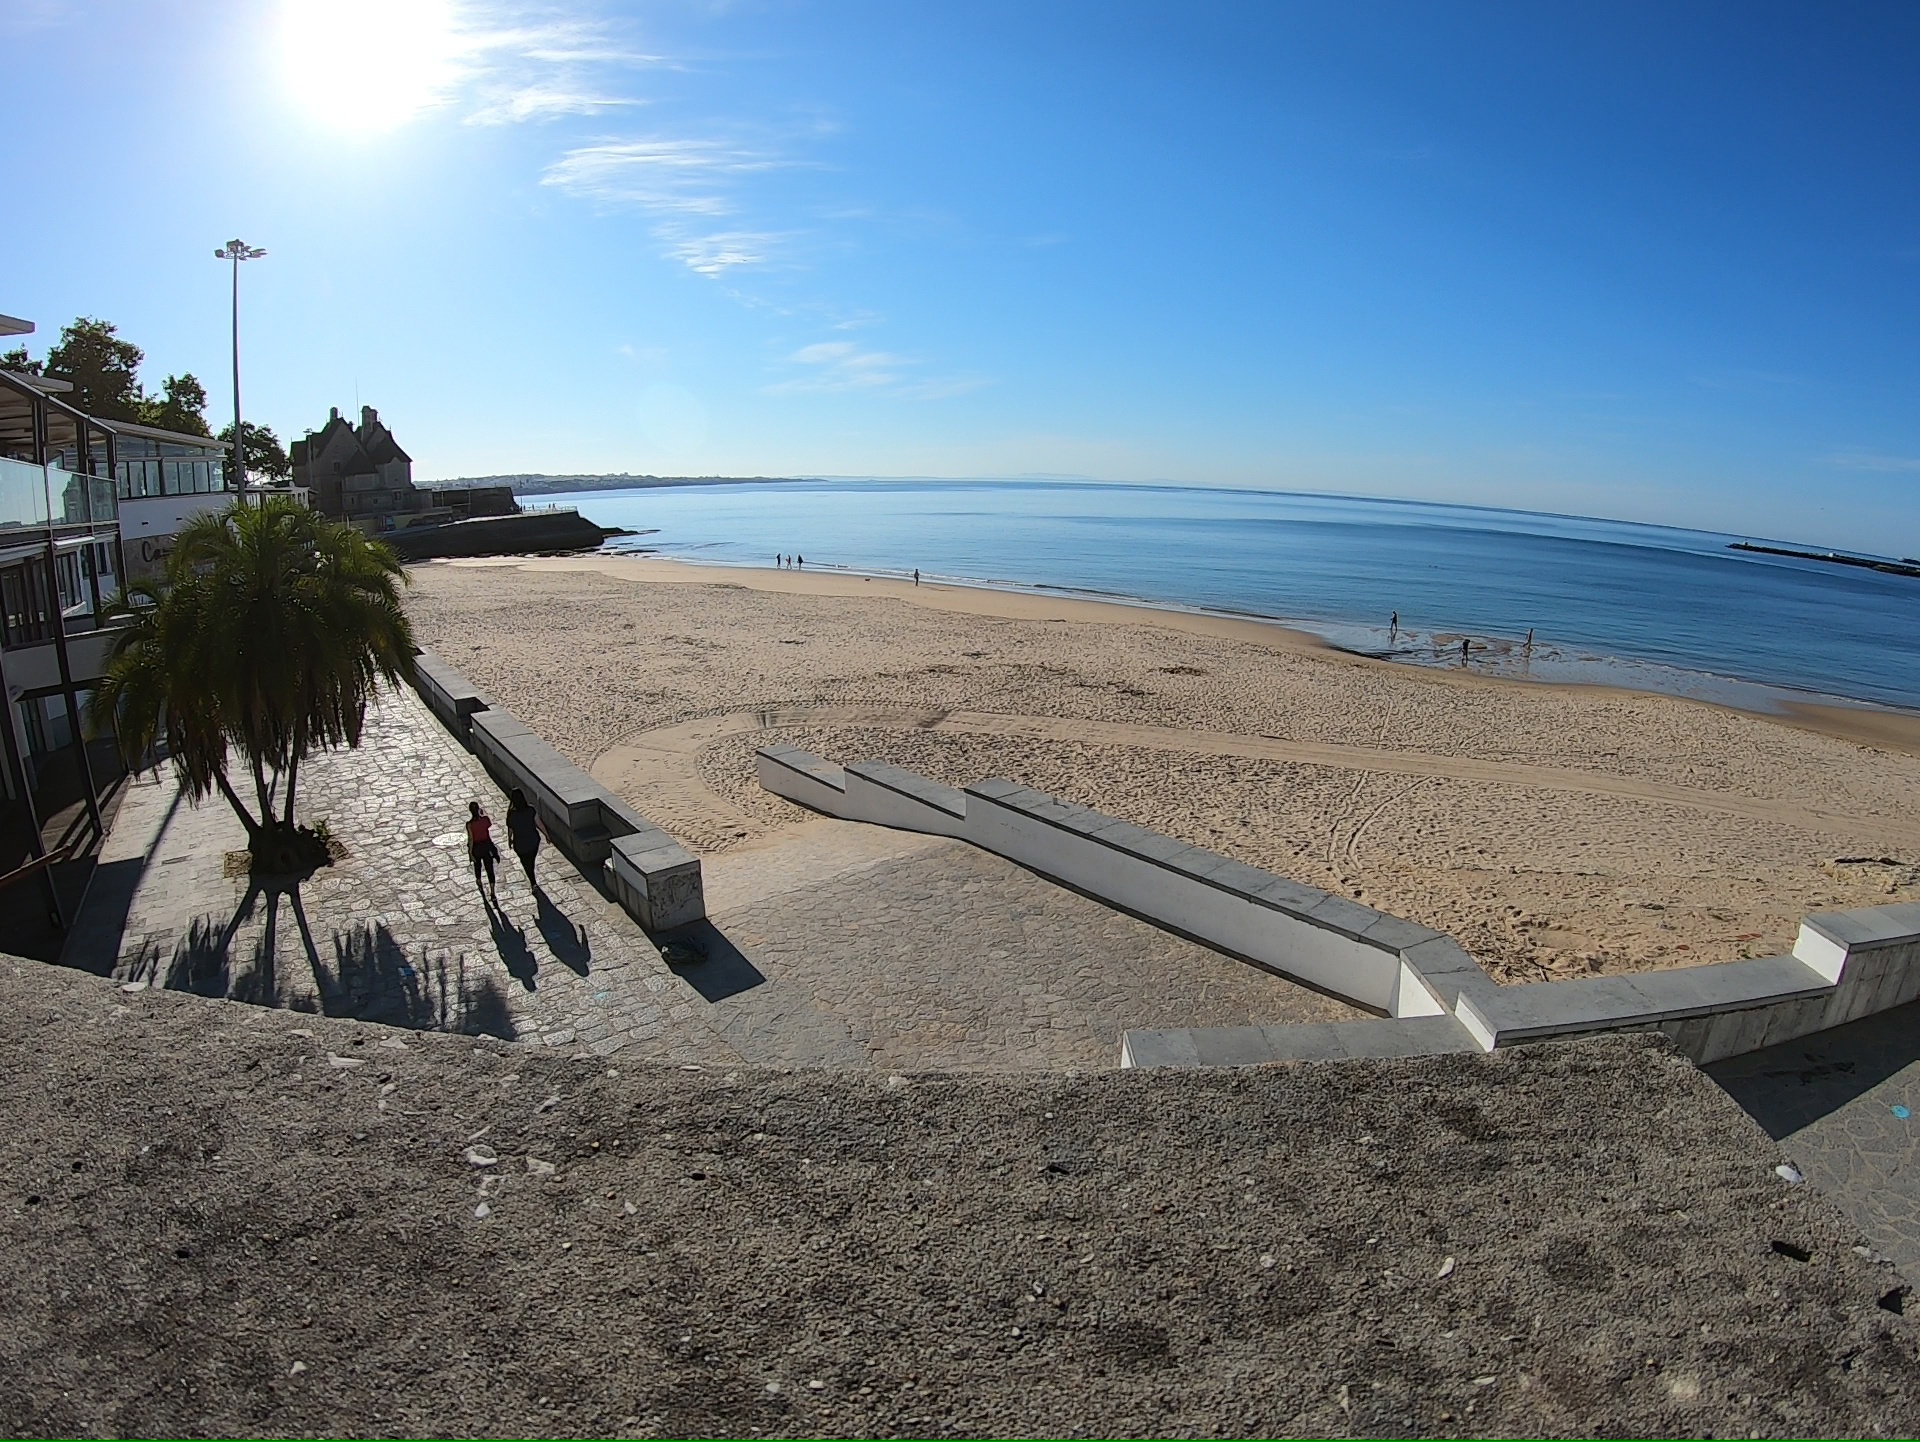person: (461, 796, 501, 894), (504, 786, 539, 887), (1523, 628, 1535, 653), (1460, 638, 1469, 666), (1390, 608, 1399, 634), (911, 568, 922, 585), (796, 553, 804, 570), (775, 553, 782, 569), (785, 553, 790, 568)
